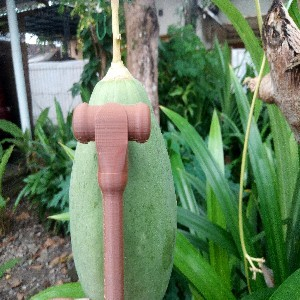palu: (72, 101, 151, 300)
